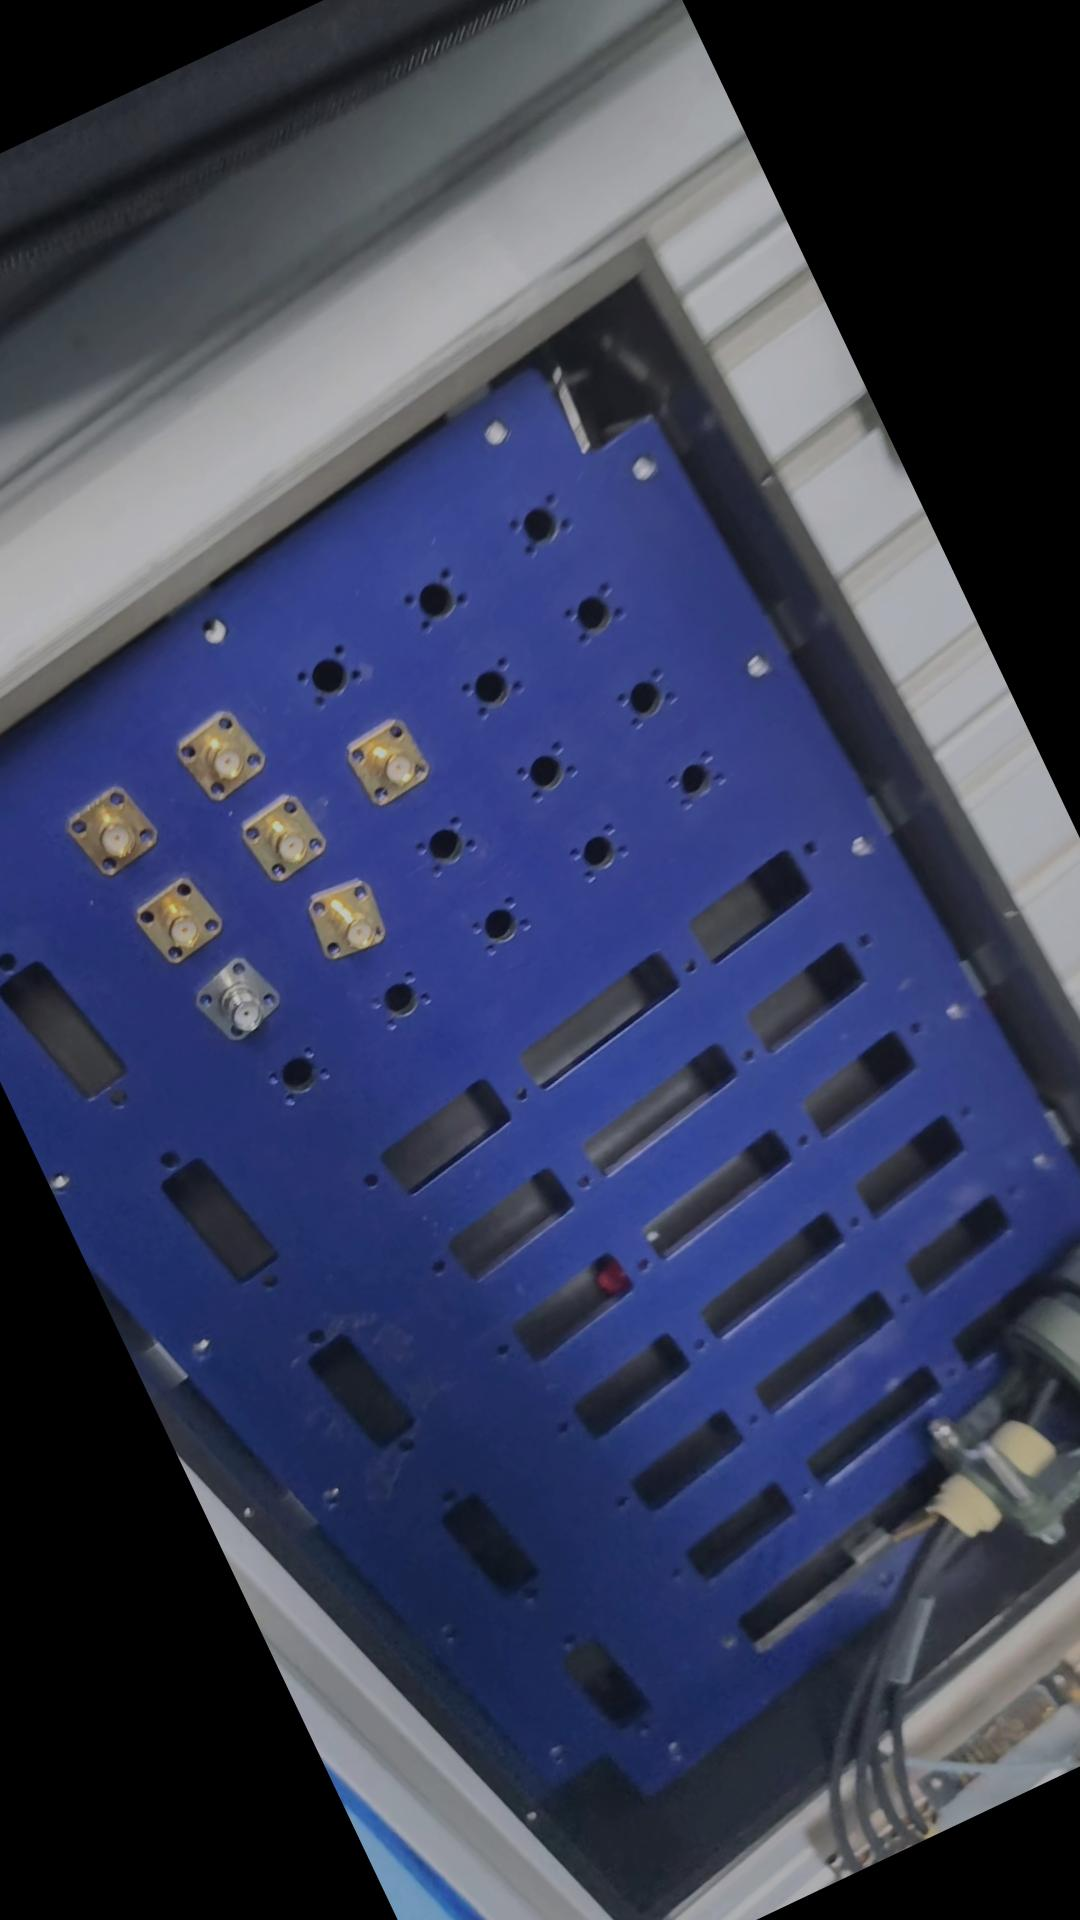SMA: (51, 771, 171, 884), (166, 699, 282, 808), (342, 707, 446, 815), (298, 868, 401, 971), (131, 872, 235, 971), (185, 948, 287, 1047), (233, 790, 334, 885)
